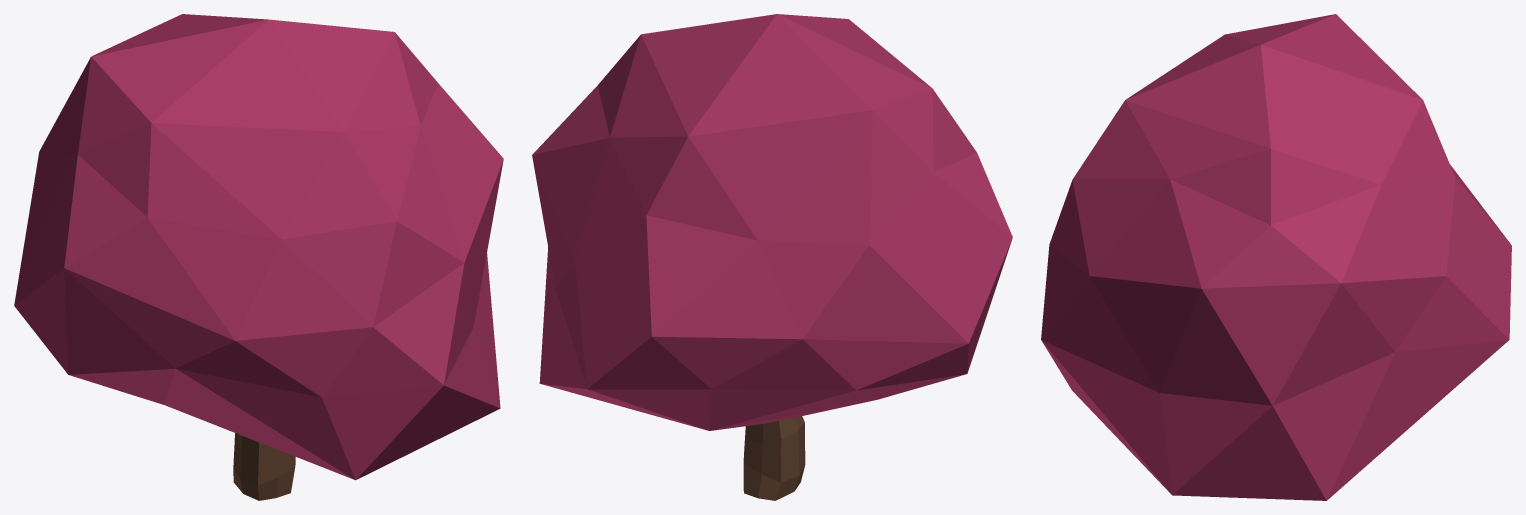
The model's file is Tree_61_Pink.fbx.
3 views of the same model, side by side, from view 1: azimuth 30°, elevation 25°; view 2: azimuth 150°, elevation 25°; view 3: azimuth 270°, elevation 25° (orthographic). The views are drawn at different scales.
Visible parts, largest first — view 1: Tree_61_Pink_Part_1, Tree_61_Pink_Part_2; view 2: Tree_61_Pink_Part_1, Tree_61_Pink_Part_2; view 3: Tree_61_Pink_Part_1.
Part boxes in pixels (x1,y1,x2,y2): Tree_61_Pink_Part_1: [14, 14, 503, 480]; Tree_61_Pink_Part_2: [233, 433, 295, 500]; Tree_61_Pink_Part_1: [532, 14, 1012, 430]; Tree_61_Pink_Part_2: [743, 416, 805, 500]; Tree_61_Pink_Part_1: [1041, 14, 1511, 500].
Size of the model in its own units: 760 by 766 by 750.
